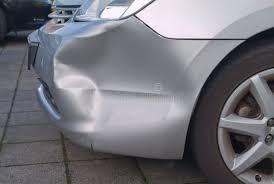dent: (52, 17, 198, 143)
